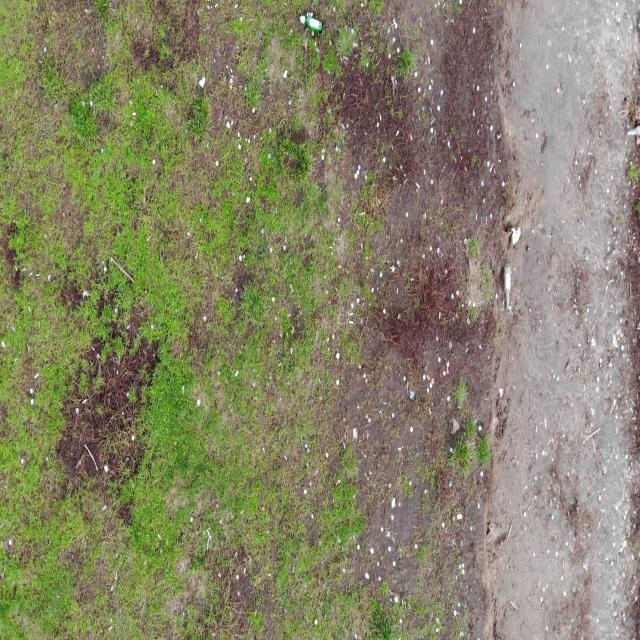rubbish: (299, 13, 323, 36), (502, 266, 513, 314), (626, 126, 640, 137)
